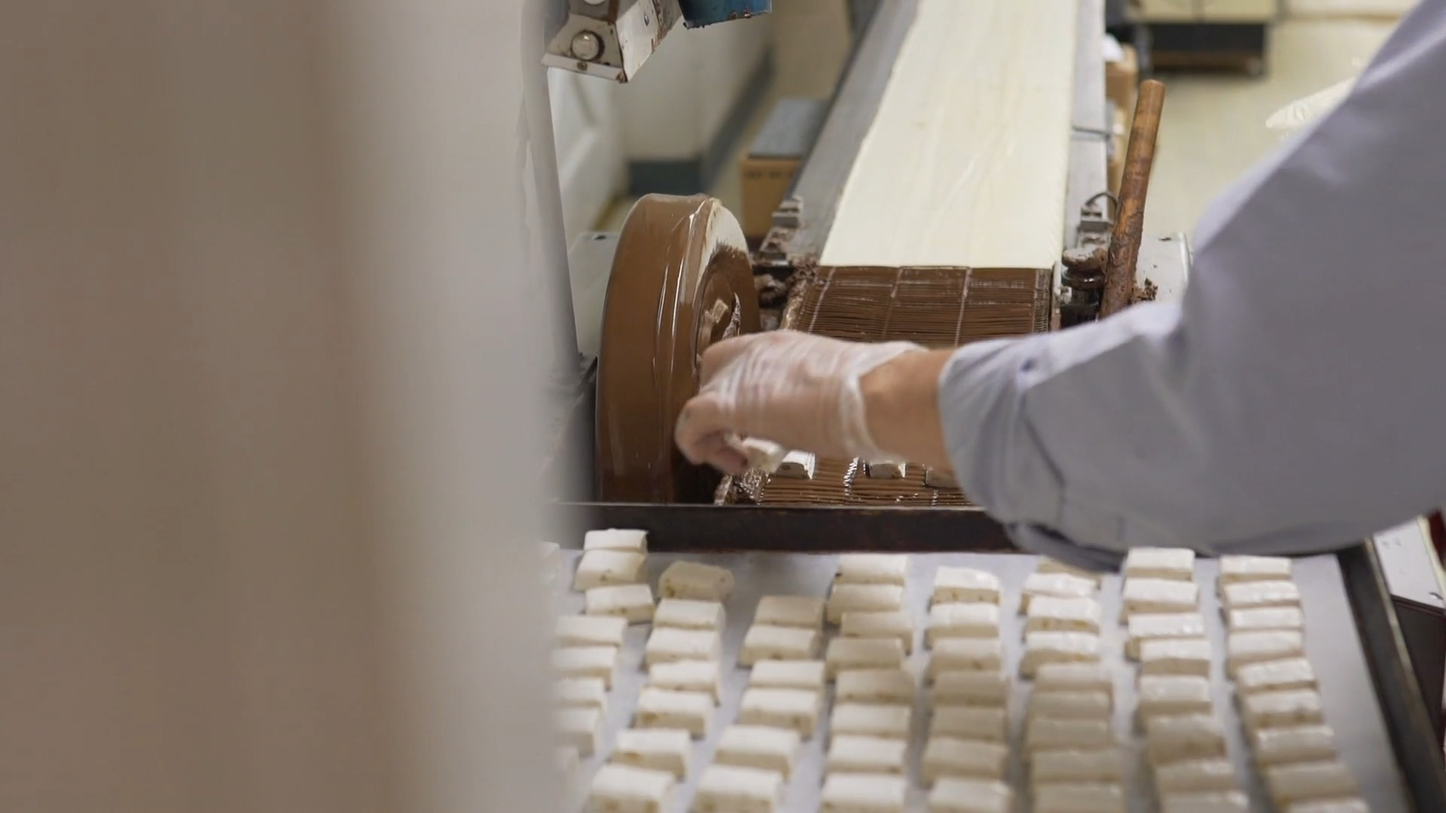gloves: (675, 307, 916, 517)
